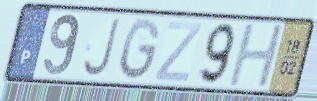9: (196, 21, 237, 87), (41, 12, 80, 78)
G: (117, 16, 162, 83)
H: (225, 23, 287, 90)
J: (80, 16, 123, 80)
Z: (152, 20, 205, 84)
